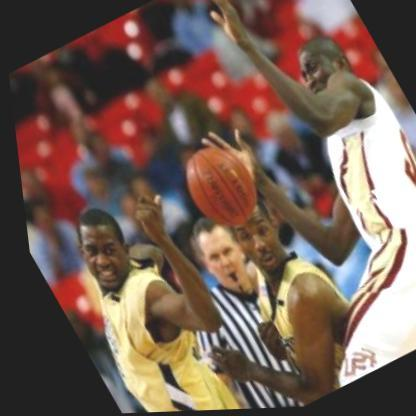basketball: (161, 131, 273, 247)
